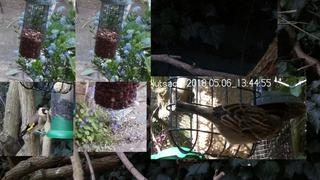goldfinch: (19, 106, 49, 138)
sparrow: (175, 100, 282, 150)
